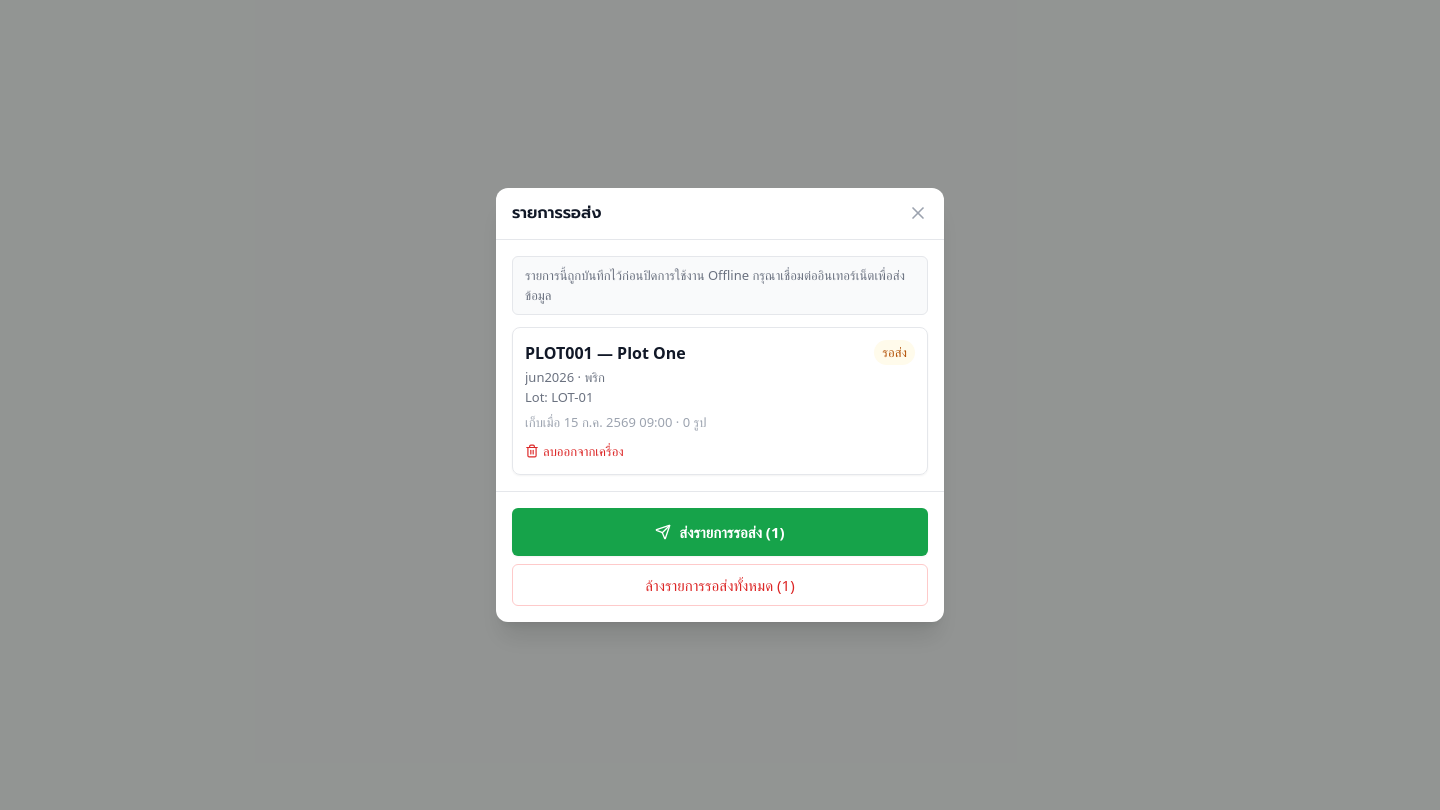
OfflineInspectionQueuePanel — list › shows a read-only detail summary (growth stage, yield, submitted name) when a row is expanded
This screenshot has width=1440, height=810.
Click the text "PLOT001 — Plot One" at (605, 353), box x1=525 y1=342 x2=686 y2=364
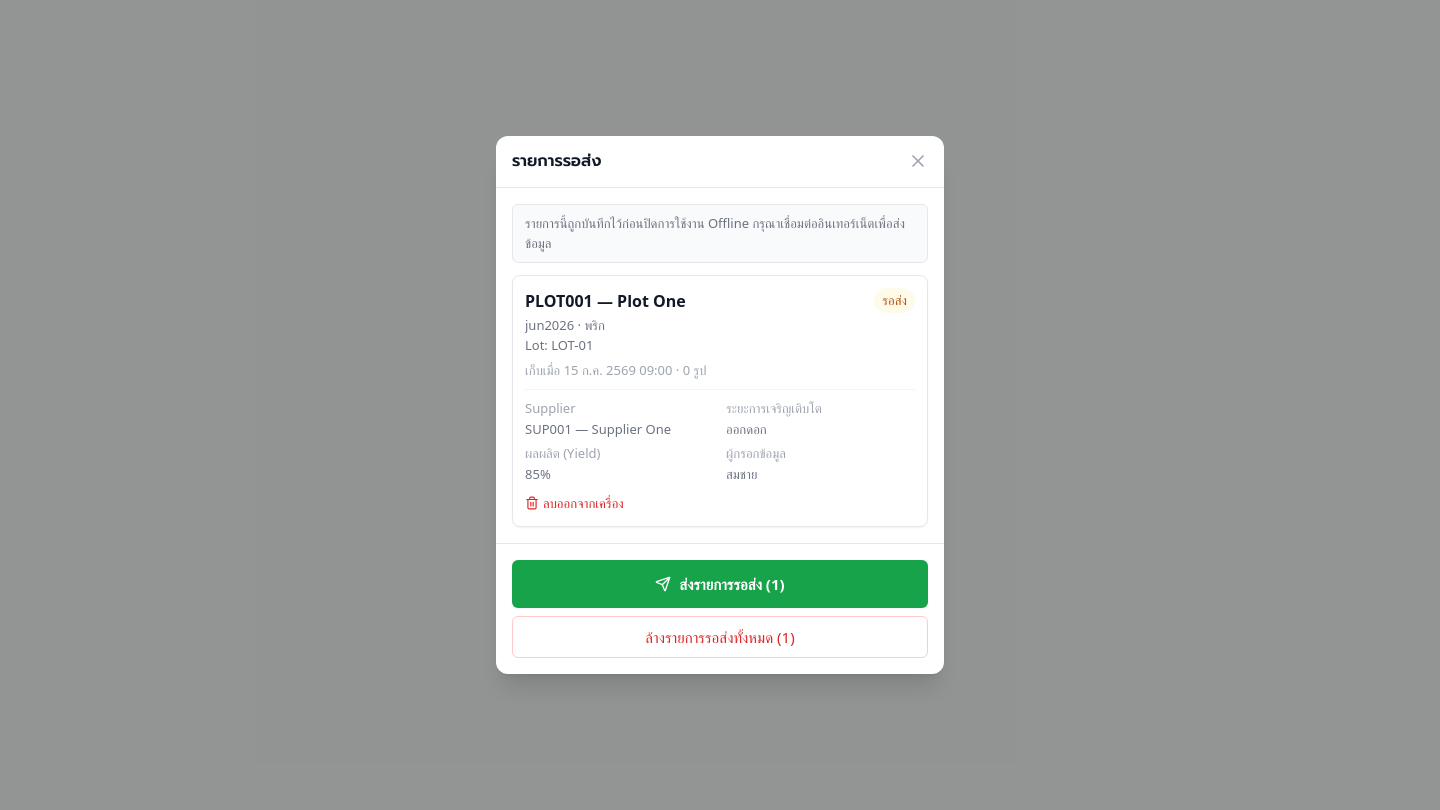
Expected: the text "ออกดอก" is shown, x1=726 y1=420 x2=767 y2=438
Expected: the text "85%" is shown, x1=525 y1=465 x2=551 y2=483
Expected: the text "สมชาย" is shown, x1=726 y1=465 x2=757 y2=483
